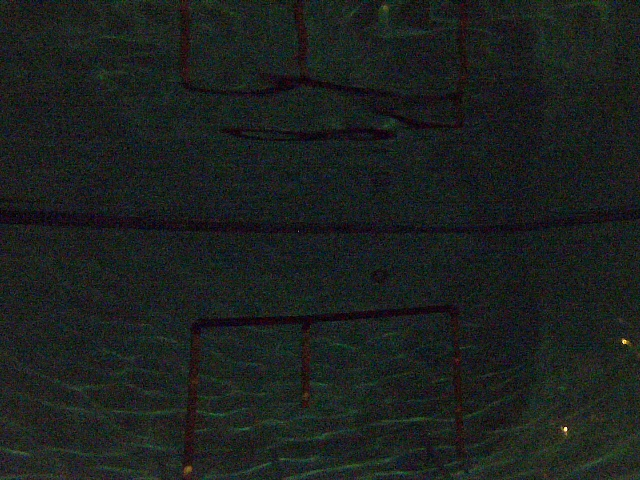Gate: (446, 316, 469, 464), (186, 326, 200, 478), (296, 322, 317, 407)
